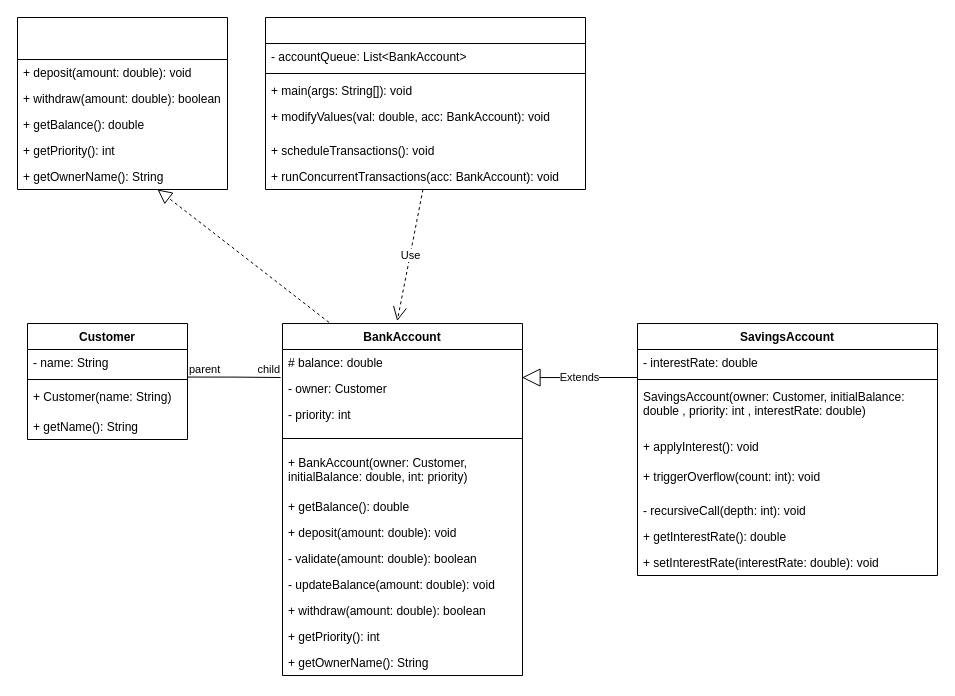
The diagram is 955 pixels wide and 696 high, and some of its shapes have lost their labels. The box of each missing label's shape, as (x1, y1, x2, y2) in pixels:
TestBank: (264, 16, 586, 190)
«interface» IBankAccount: (16, 16, 228, 190)
